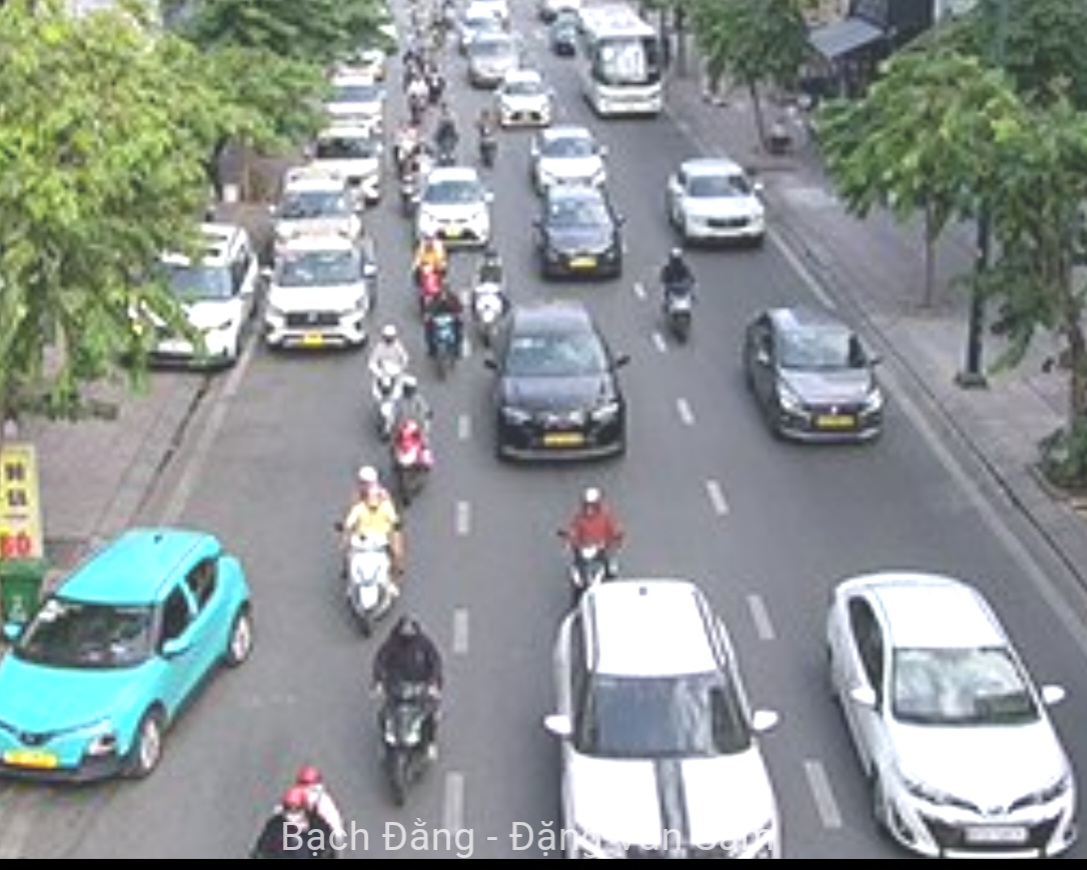car: (829, 582, 1076, 863), (550, 585, 790, 859), (5, 523, 252, 781), (489, 305, 629, 459), (740, 304, 883, 448), (261, 242, 379, 356), (665, 159, 768, 250), (539, 186, 615, 279), (413, 164, 490, 244), (277, 171, 363, 239), (310, 118, 384, 193), (531, 129, 608, 189), (321, 69, 385, 121), (497, 72, 551, 128), (470, 33, 520, 83)
